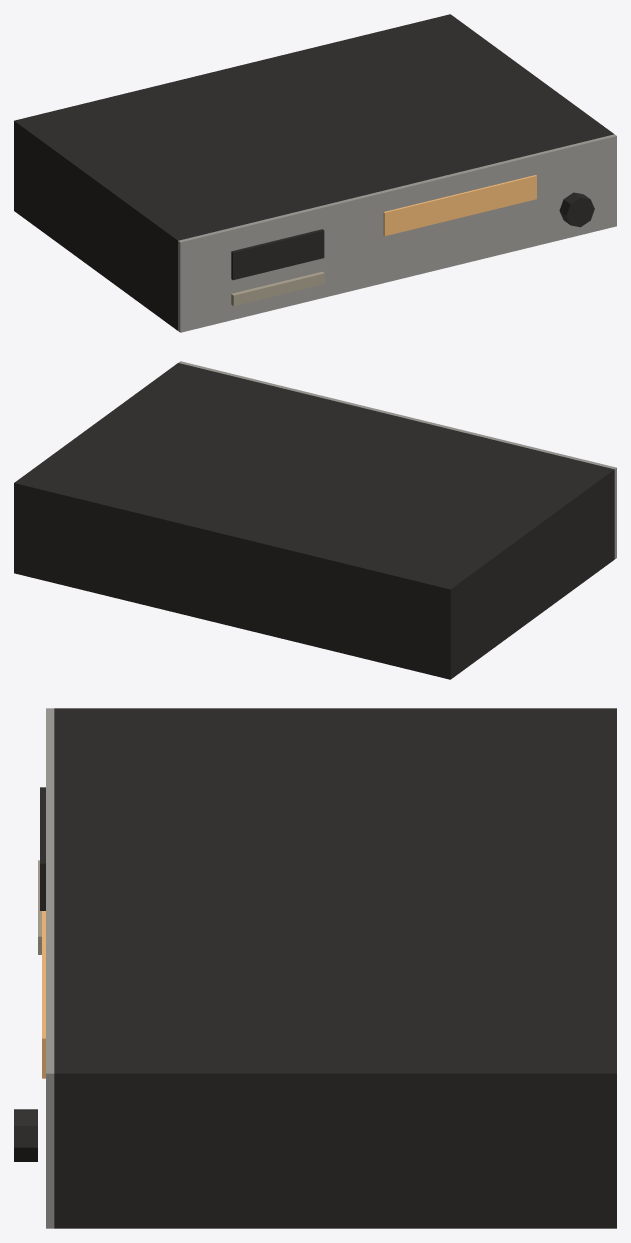
Rendered from dat-deck.glb.
3 renders of one model, top to bottom at view 1: azimuth 30°, elevation 25°; view 2: azimuth 150°, elevation 25°; view 3: azimuth 270°, elevation 25°, orthographic. The views are drawn at different scales.
Parts seen in each view (by area): view 1: plastic-dark, brushed, emissive-warm, plastic-light; view 2: plastic-dark, brushed; view 3: plastic-dark, brushed.
Boxes of the visible parts, <box> form: plastic-dark: <box>14,14,613,330</box>; brushed: <box>178,134,616,332</box>; emissive-warm: <box>383,175,536,236</box>; plastic-light: <box>231,271,324,305</box>; plastic-dark: <box>14,363,614,679</box>; brushed: <box>178,361,616,559</box>; plastic-dark: <box>14,708,616,1228</box>; brushed: <box>46,708,54,1228</box>.
Size of the model in its own units: 0.43 by 0.095 by 0.3.
